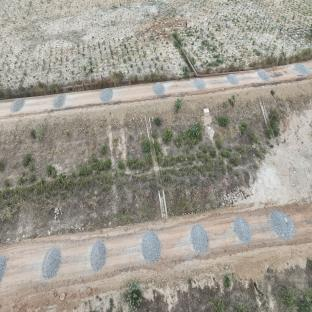slope_drain: (144, 114, 172, 227), (104, 119, 122, 226), (258, 96, 285, 151)
toe_drain: (18, 187, 289, 254)
